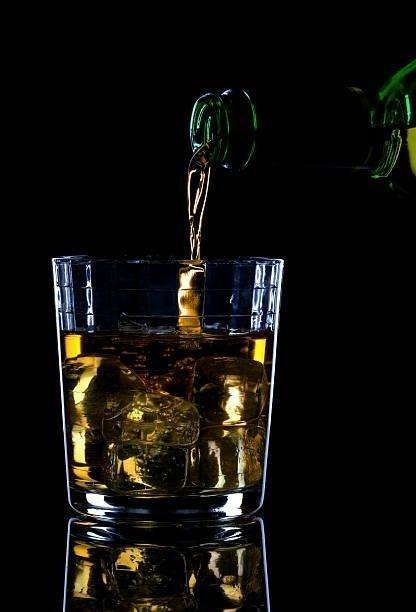glass-normal: (46, 249, 288, 526)
